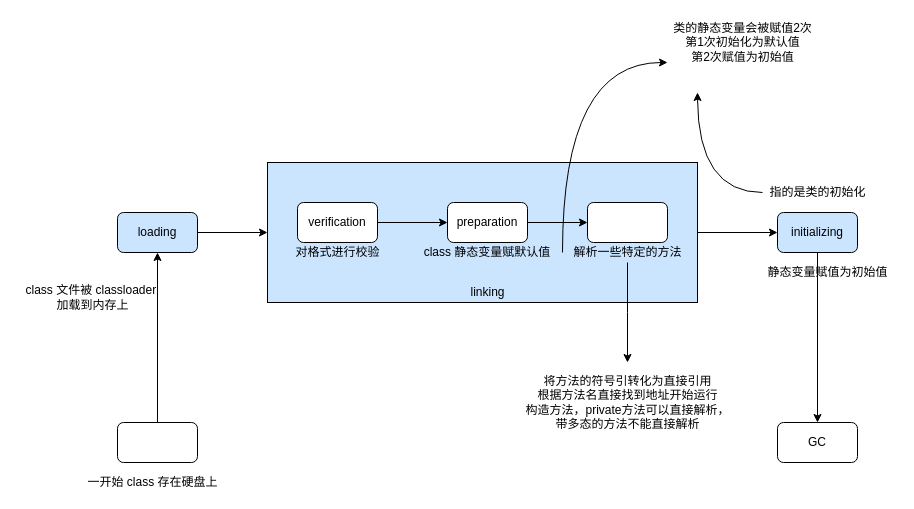
Image size: 914x509. Some labels were removed from this diagram. Each missing label, with the centre of its shape:
"class" goes at point 157,442.
"resolution" goes at point 627,222.
